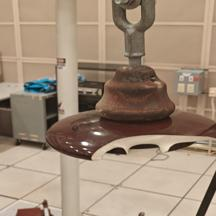insulator: (41, 58, 216, 171)
